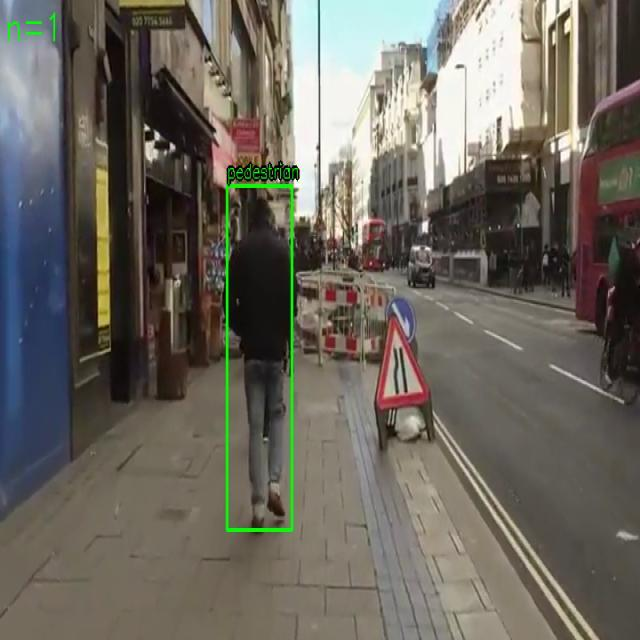with scooter: (226, 185, 292, 531)
